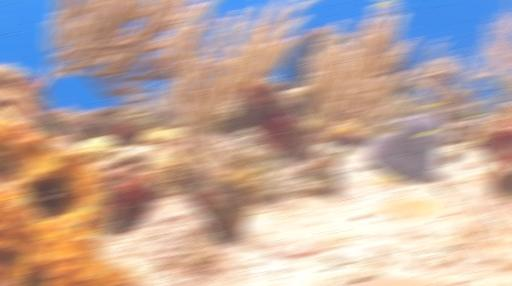Fish: (364, 119, 403, 136), (305, 113, 318, 129), (423, 101, 446, 109), (465, 113, 491, 120), (417, 128, 437, 137), (467, 135, 482, 146), (375, 0, 398, 6)
